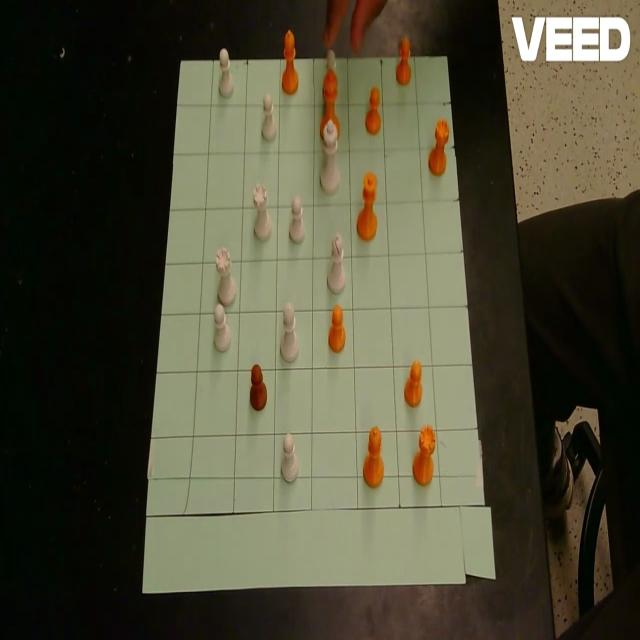orange_bishop: (364, 426, 384, 488), (282, 28, 298, 93)
orange_king: (320, 64, 340, 140)
orange_pawn: (403, 359, 422, 407), (328, 304, 346, 352), (250, 364, 268, 411), (396, 35, 412, 85), (366, 86, 381, 133), (362, 172, 377, 200), (368, 426, 382, 455), (436, 118, 449, 141), (332, 305, 343, 327), (410, 360, 421, 381), (369, 87, 380, 107)
orange_queen: (356, 171, 378, 240)
orange_rook: (412, 425, 436, 486), (428, 117, 449, 175)
white_bishop: (280, 302, 299, 362), (327, 232, 345, 294), (332, 232, 344, 260)
white_king: (320, 120, 340, 191)
white_pawn: (281, 432, 299, 483), (213, 302, 231, 352), (218, 47, 234, 97), (261, 92, 277, 141), (289, 196, 305, 244), (325, 48, 336, 74), (283, 432, 294, 454), (292, 195, 302, 217), (263, 92, 273, 113), (219, 48, 229, 69)
white_rook: (216, 246, 237, 306), (253, 181, 272, 241)
